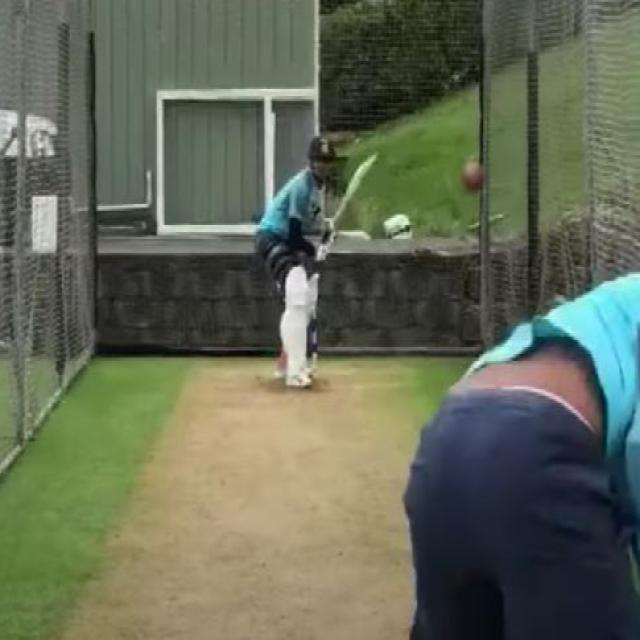ball: (458, 158, 488, 198)
